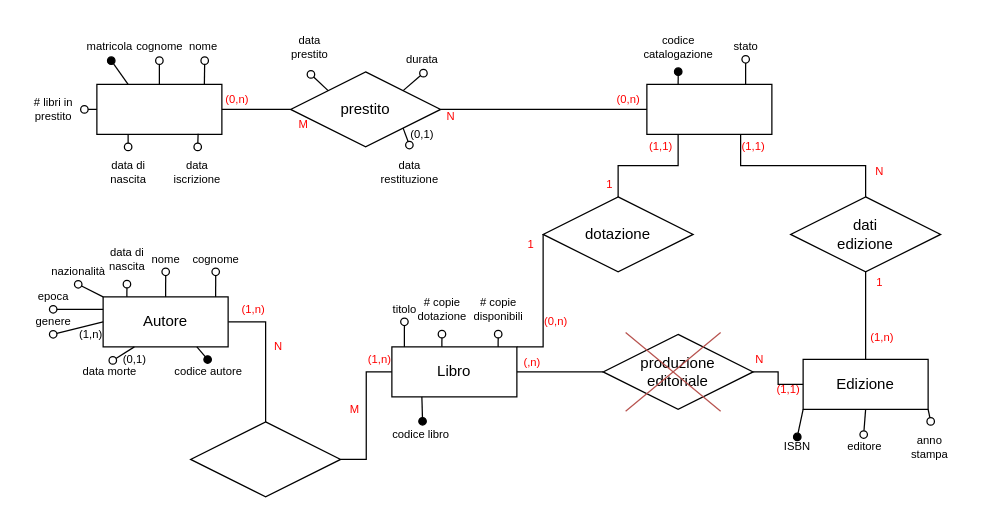
Image size: 981x519. Some labels were removed from this diagram. Here are the shapes that lost their labels. From the top down, the centre of each, then its label:
point (159, 108): Socio
point (709, 108): Volume/Copia
point (265, 459): scrittura
